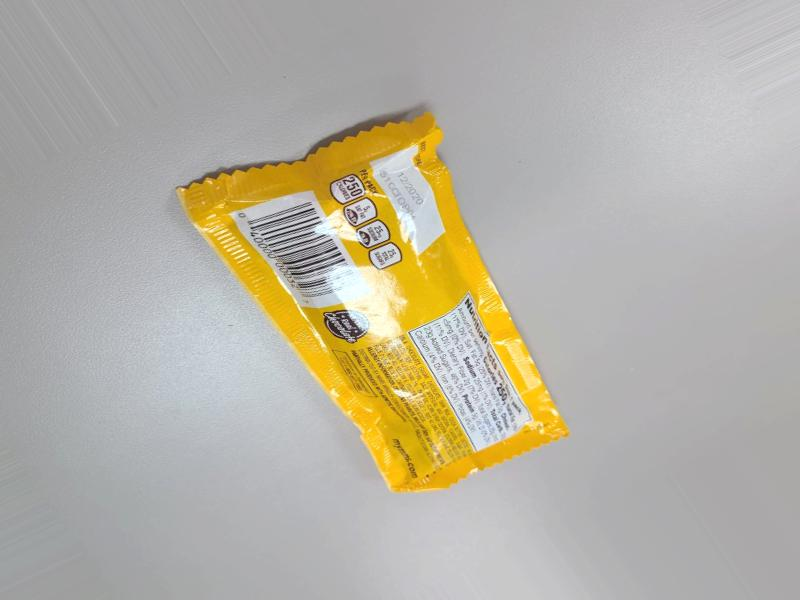m&m: (232, 120, 551, 514)
